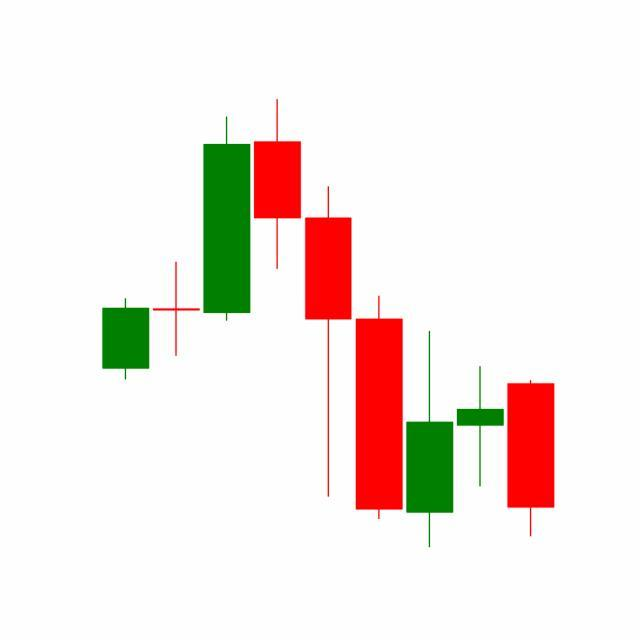Hikkake Pattern: (302, 182, 555, 548)
